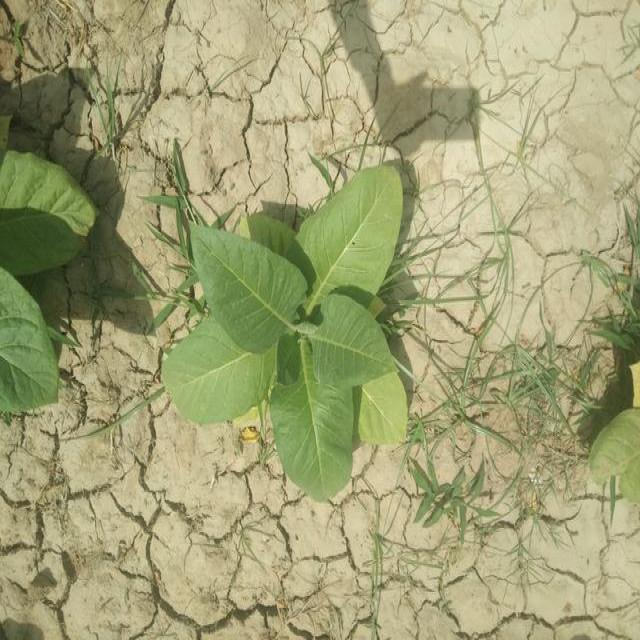crop: (168, 163, 414, 497), (4, 138, 98, 416)
